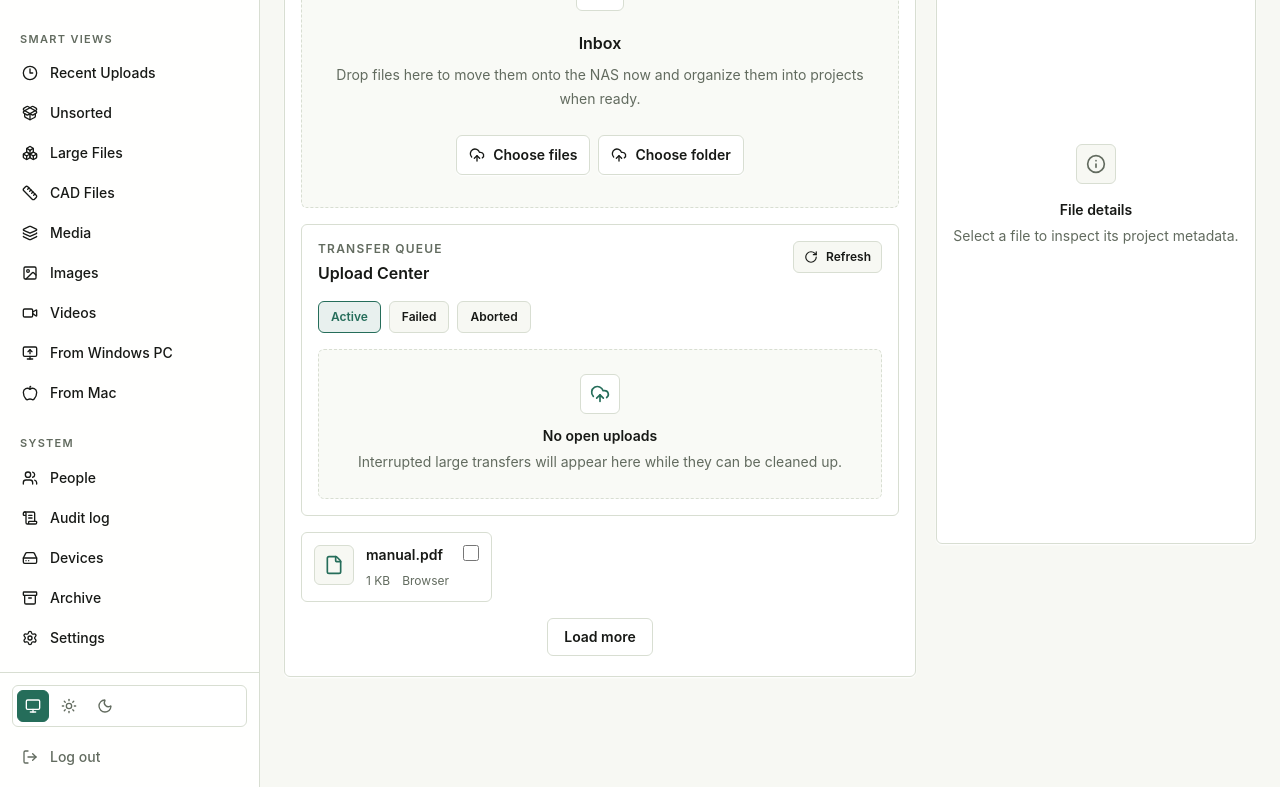
Test case: AppShell › loads the next page of files on demand and stops offering more at the end
(page scrolled)
What coordinates should you click on to do the following:
click the checkbox named "Select manual.pdf"
I would click on:
 (471, 553)
Its box is [463, 545, 479, 561].
(page scrolled)
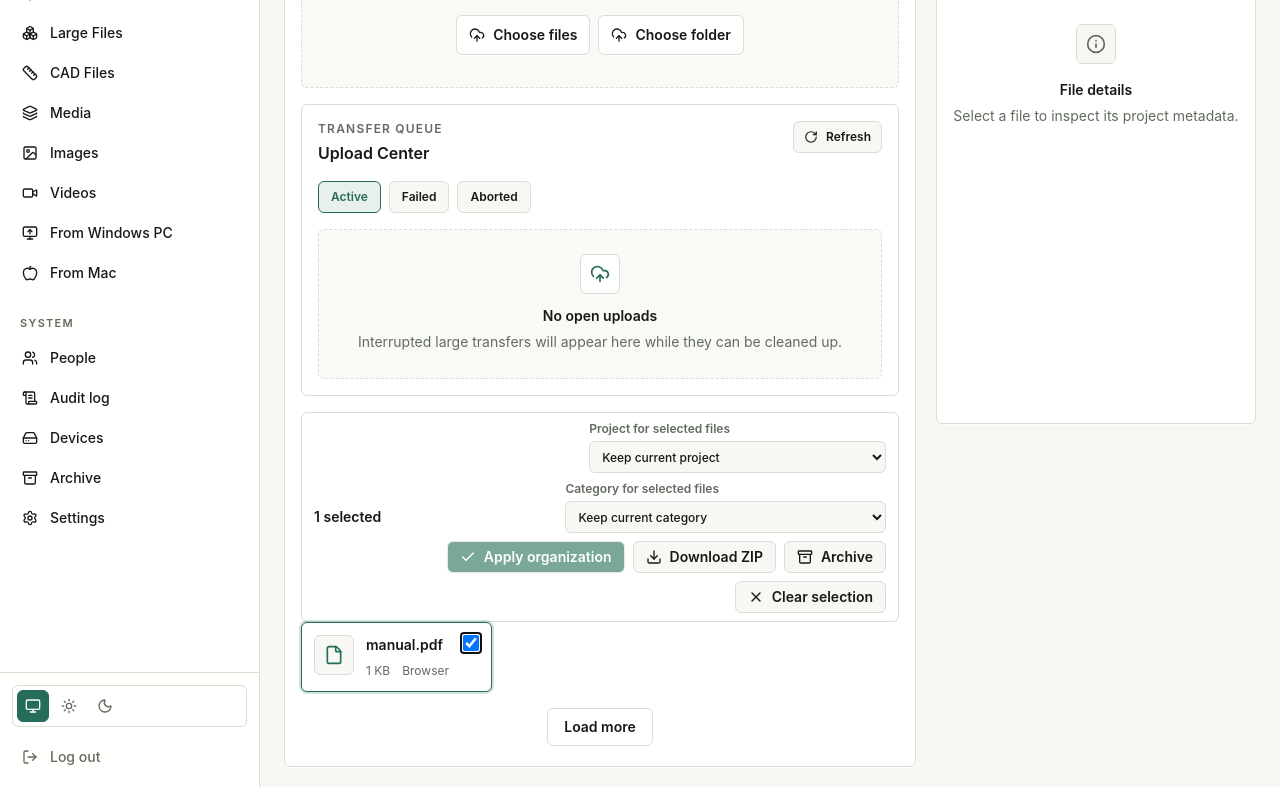
What coordinates should you click on to do the following:
click the button with aria-label "Load more files"
I would click on:
 (600, 727)
Its box is [547, 708, 653, 746].
(page scrolled)
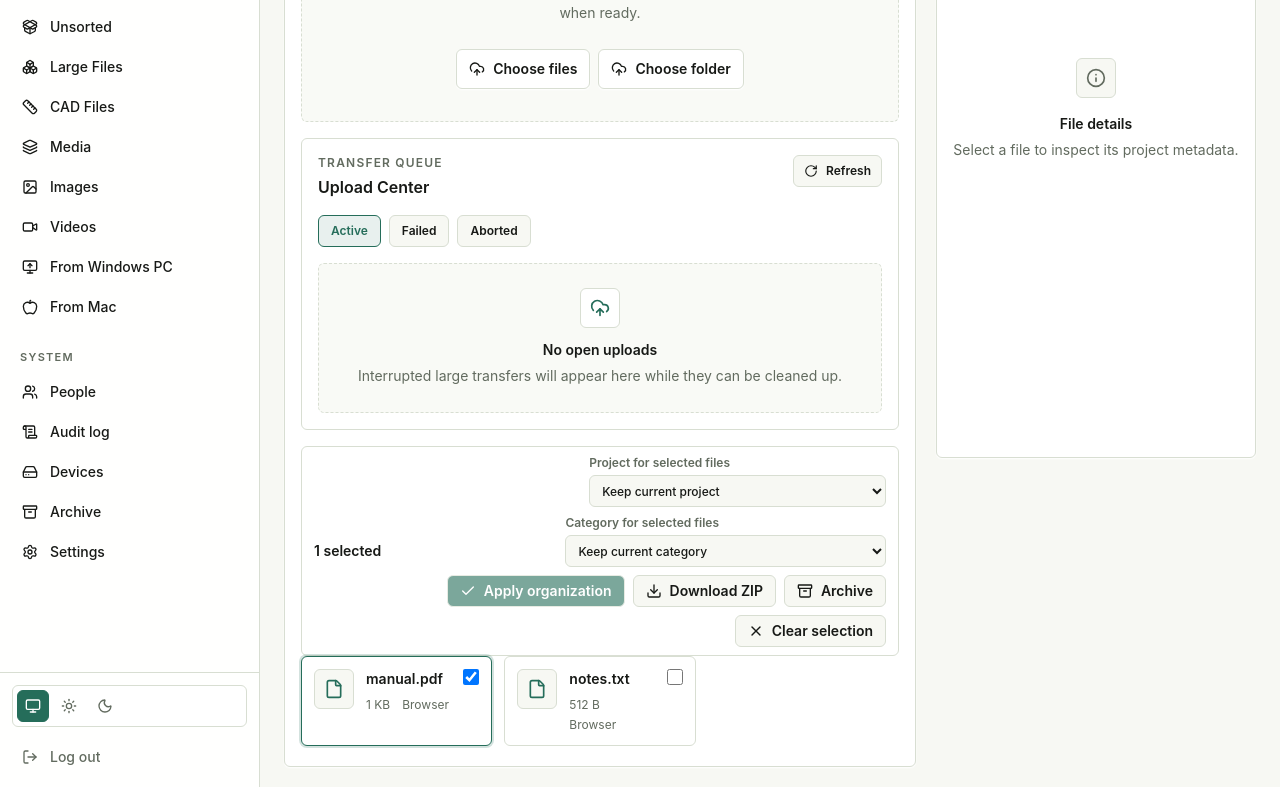
Expected: the button "manual.pdf 1 KB Browser" is shown, [302, 657, 491, 725]
Expected: the checkbox named "Select manual.pdf" is checked, [463, 669, 479, 685]
Expected: the button "notes.txt 512 B Browser" is shown, [505, 657, 695, 745]
